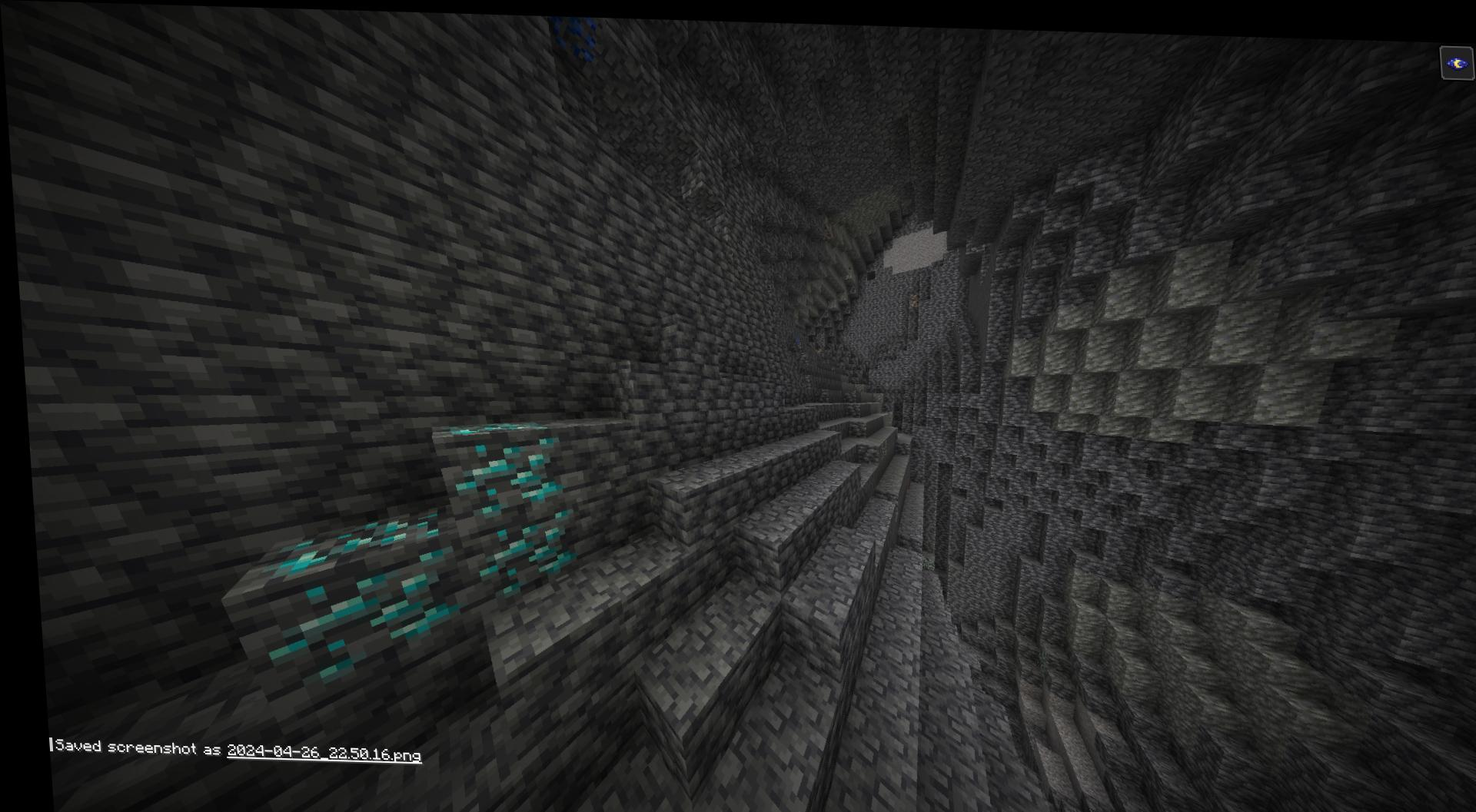diamond ore: (265, 544, 453, 703), (429, 407, 560, 512), (261, 504, 446, 565), (468, 502, 568, 597)
